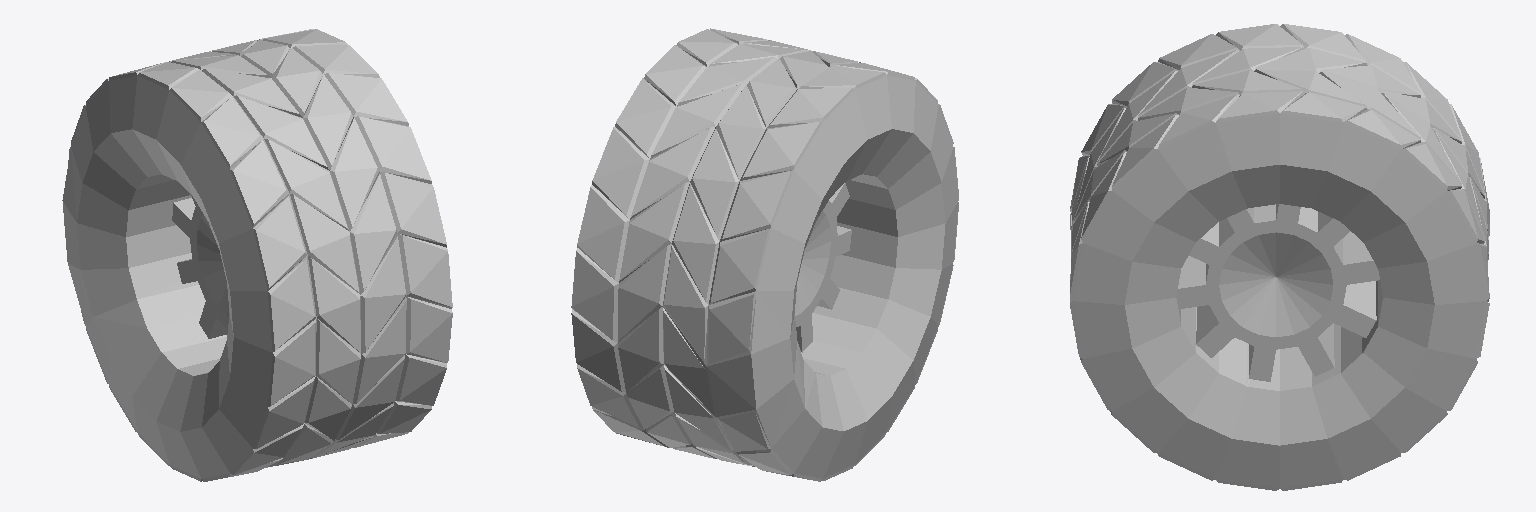
File: JianFengCarWheel.obj
The picture shows the model from 3 angles: view 1: azimuth 30°, elevation 25°; view 2: azimuth 150°, elevation 25°; view 3: azimuth 270°, elevation 25°; orthographic projection.
Bounding box in the file's own units: 1.12 × 2.03 × 2.03.